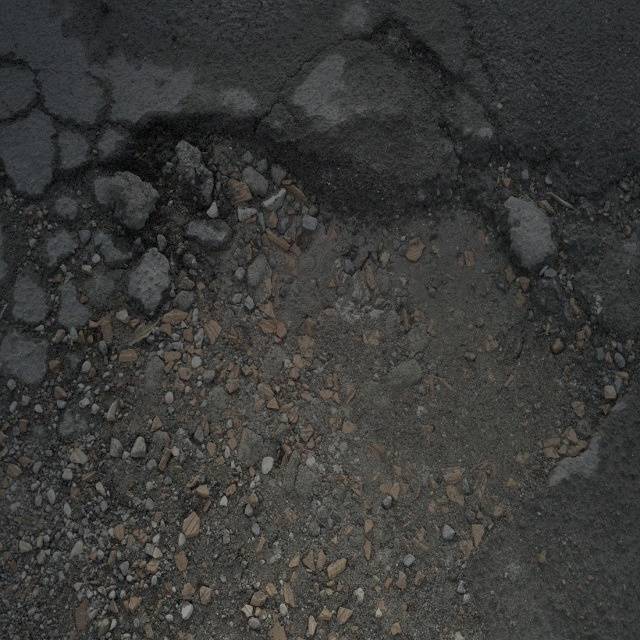pothole: (139, 93, 616, 548)
